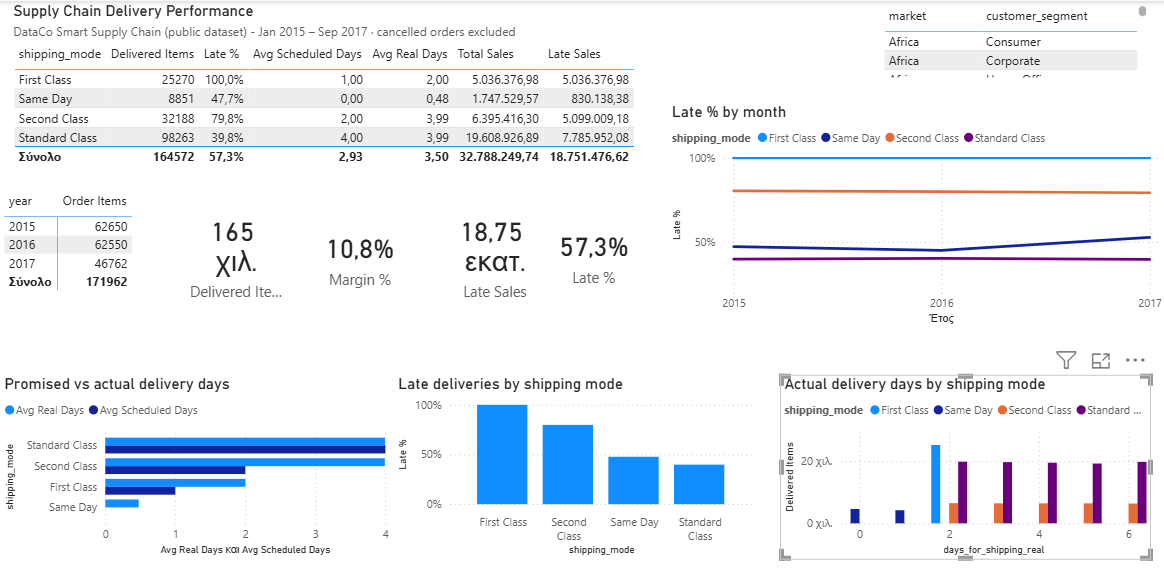

This screenshot's page, from the dashboard's own definition file:
{"tool":"powerbi","page":{"name":"Delivery Performance","canvas":[1280,720],"ordinal":0},"visuals":[{"type":"tableEx","title":"Supply Chain Delivery Performance","fields":{"Values":["dim_shipping_mode.shipping_mode","fact_order_items.Delivered Items","fact_order_items.Late %","fact_order_items.Avg Scheduled Days","fact_order_items.Avg Real Days","dim_customer.Sales 2","dim_customer.Late Sales"]},"box":[9.6,0,695.7,203.1],"z":0},{"type":"pivotTable","fields":{"Rows":["dim_date.year"],"Values":["fact_order_items.Order Items"]},"box":[0,203.1,155.1,150.9],"z":1000},{"type":"card","fields":{"Values":["fact_order_items.Delivered Items"]},"box":[201.7,203.1,115.3,150.9],"z":2000},{"type":"card","fields":{"Values":["fact_order_items.Late %"]},"box":[581.8,203.1,140,150.9],"z":3000},{"type":"card","fields":{"Values":["dim_customer.Late Sales"]},"box":[473.4,203.1,140,150.9],"z":4000},{"type":"card","fields":{"Values":["dim_customer.Margin %"]},"box":[317,203.1,156.4,156.4],"z":5000},{"type":"clusteredBarChart","title":"Promised vs actual delivery days","fields":{"Category":["dim_shipping_mode.shipping_mode"],"Y":["fact_order_items.Avg Real Days","fact_order_items.Avg Scheduled Days"]},"box":[0,410.3,432.2,203.1],"z":6000},{"type":"columnChart","title":"Late deliveries by shipping mode","fields":{"Category":["dim_shipping_mode.shipping_mode"],"Y":["fact_order_items.Late %"]},"box":[432.2,410.3,399.3,203.1],"z":7000},{"type":"clusteredColumnChart","title":"Actual delivery days by shipping mode","fields":{"Category":["fact_order_items.days_for_shipping_real"],"Y":["fact_order_items.Delivered Items"],"Series":["dim_shipping_mode.shipping_mode"]},"box":[856.3,410.3,407.5,203.1],"z":8000},{"type":"lineChart","title":"Late % by month","fields":{"Category":["dim_date.date.Παραλλαγή.Ιεραρχία ημερομηνιών.Έτος","dim_date.date.Παραλλαγή.Ιεραρχία ημερομηνιών.Μήνας"],"Y":["fact_order_items.Late %"],"Series":["dim_shipping_mode.shipping_mode"]},"box":[732.8,111.1,547.5,248.4],"z":9000},{"type":"tableEx","fields":{"Values":["dim_location.market","dim_customer.customer_segment"]},"box":[964.7,0,299.1,89.2],"z":10000}]}

Visuals, with their boxes on the page's 1280x720 design canvas (x1, y1, x2, y2). These are canvas units, not pixel positions in the 1164x571 screenshot, which may show the page scaled, cropped or inside an application window:
"Supply Chain Delivery Performance" tableEx: [10,0,705,203]
pivotTable - dim_date.year x fact_order_items.Order Items: [0,203,155,354]
card - fact_order_items.Delivered Items: [202,203,317,354]
card - fact_order_items.Late %: [582,203,722,354]
card - dim_customer.Late Sales: [473,203,613,354]
card - dim_customer.Margin %: [317,203,473,360]
"Promised vs actual delivery days" clusteredBarChart: [0,410,432,613]
"Late deliveries by shipping mode" columnChart: [432,410,832,613]
"Actual delivery days by shipping mode" clusteredColumnChart: [856,410,1264,613]
"Late % by month" lineChart: [733,111,1280,360]
tableEx - dim_location.market x dim_customer.customer_segment: [965,0,1264,89]
